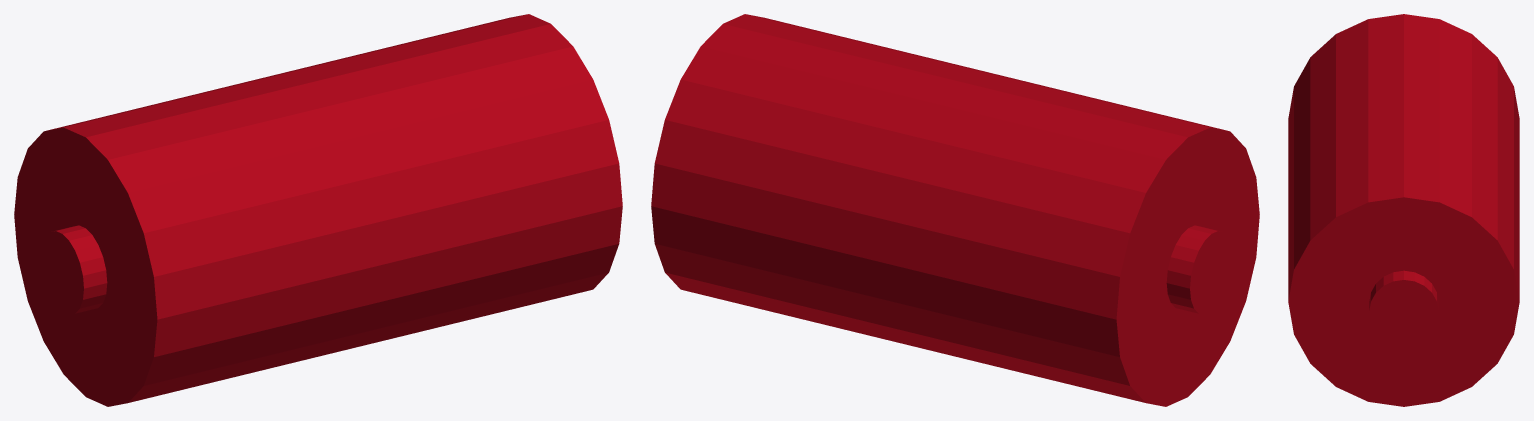
The model's file is Footblock.fbx.
The picture shows the model from 3 angles, left to right: view 1: azimuth 30°, elevation 25°; view 2: azimuth 150°, elevation 25°; view 3: azimuth 270°, elevation 25°; orthographic projection. The views are drawn at different scales.
Parts seen in each view (by area): view 1: Footblock; view 2: Footblock; view 3: Footblock.
Boxes of the visible parts, x1,y1,x2,y2 form: Footblock: [14, 14, 622, 406]; Footblock: [651, 14, 1259, 406]; Footblock: [1288, 14, 1519, 406].
Size of the model in its own units: 1.65 by 0.8 by 0.8.
